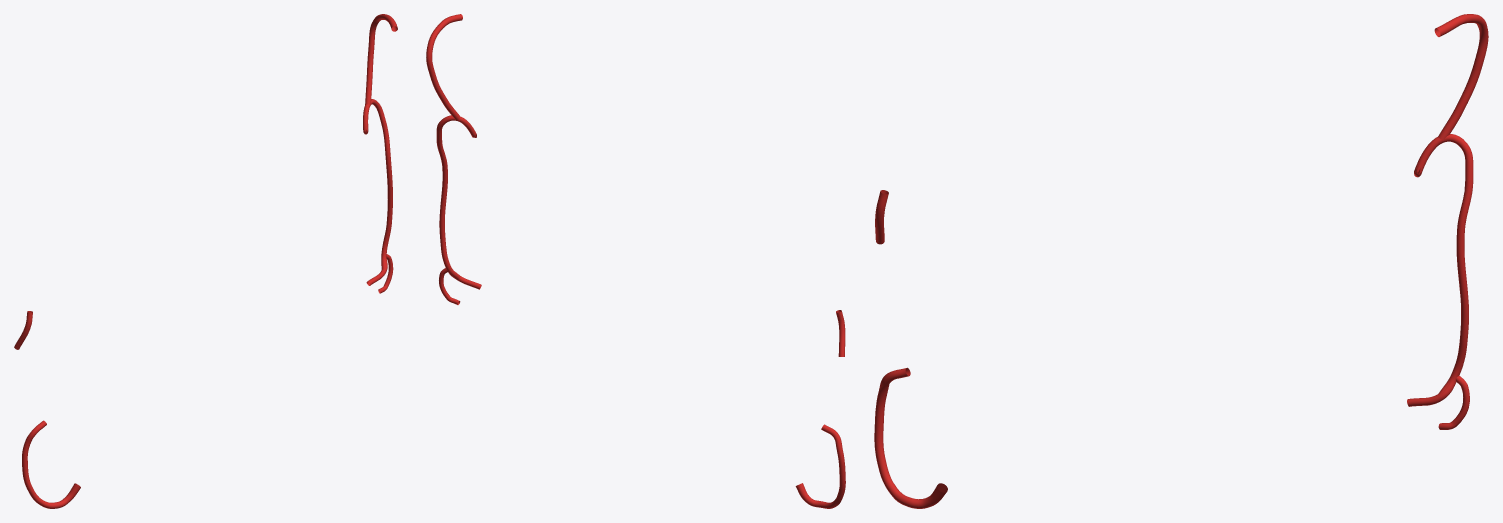
Rendered from circulatorio-marginal-artery.glb.
The picture shows the model from 3 angles, left to right: view 1: azimuth 30°, elevation 25°; view 2: azimuth 150°, elevation 25°; view 3: azimuth 330°, elevation 25°; orthographic projection. The views are drawn at different scales.
Visible parts, largest first — view 1: Marginal artery; view 2: Marginal artery; view 3: Marginal artery.
Boxes of the visible parts, bbox=[...] form: Marginal artery: bbox=[14, 14, 397, 508]; Marginal artery: bbox=[426, 14, 845, 508]; Marginal artery: bbox=[874, 14, 1488, 508].
Bounding box in the file's own units: 0.1361 × 0.1343 × 0.021.
